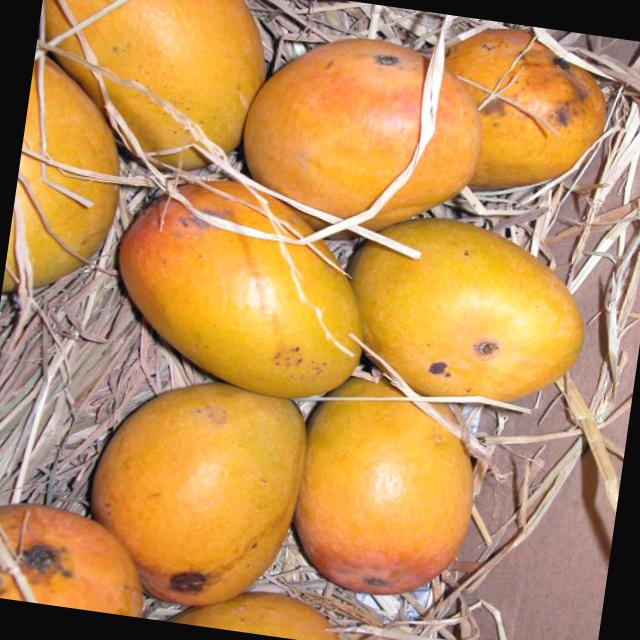mango: (105, 164, 384, 406), (86, 372, 327, 630), (240, 16, 498, 252), (332, 205, 596, 419), (282, 367, 486, 606)
